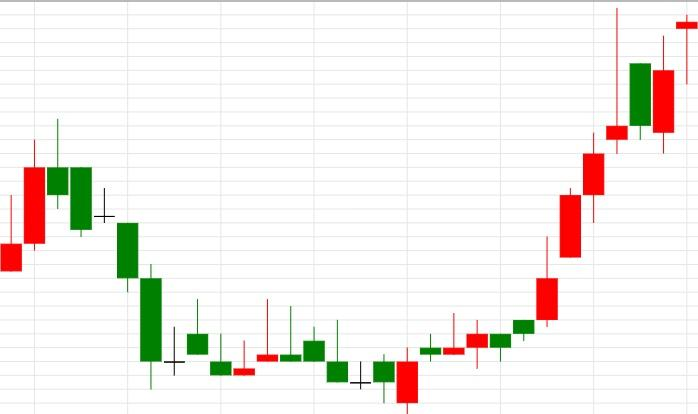shooting_star_fall: (536, 7, 628, 327)
